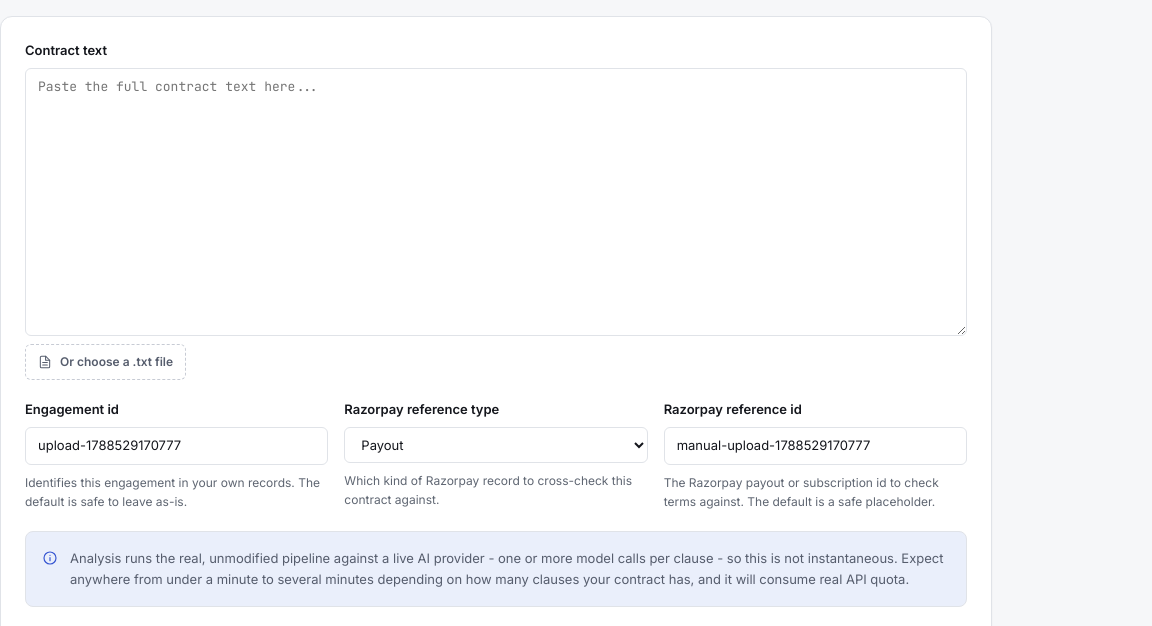
Test: UploadPage › shows the error plainly and links to the partial result when analysis fails partway through
This screenshot has width=1152, height=626.
Type "1. PAYMENT. Pays monthly." into the text box labelled "Contract text" at (496, 202), box [25,68,967,336]
(page scrolled)
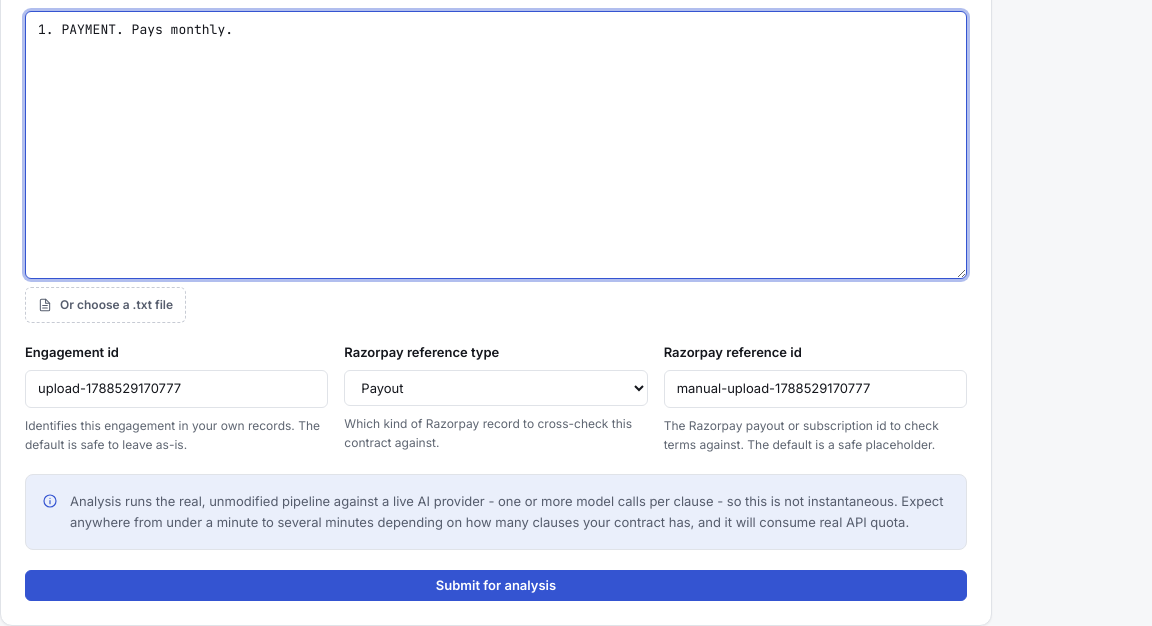
Click the button "Submit for analysis" at (496, 585), box [25,570,967,601]
(page scrolled)
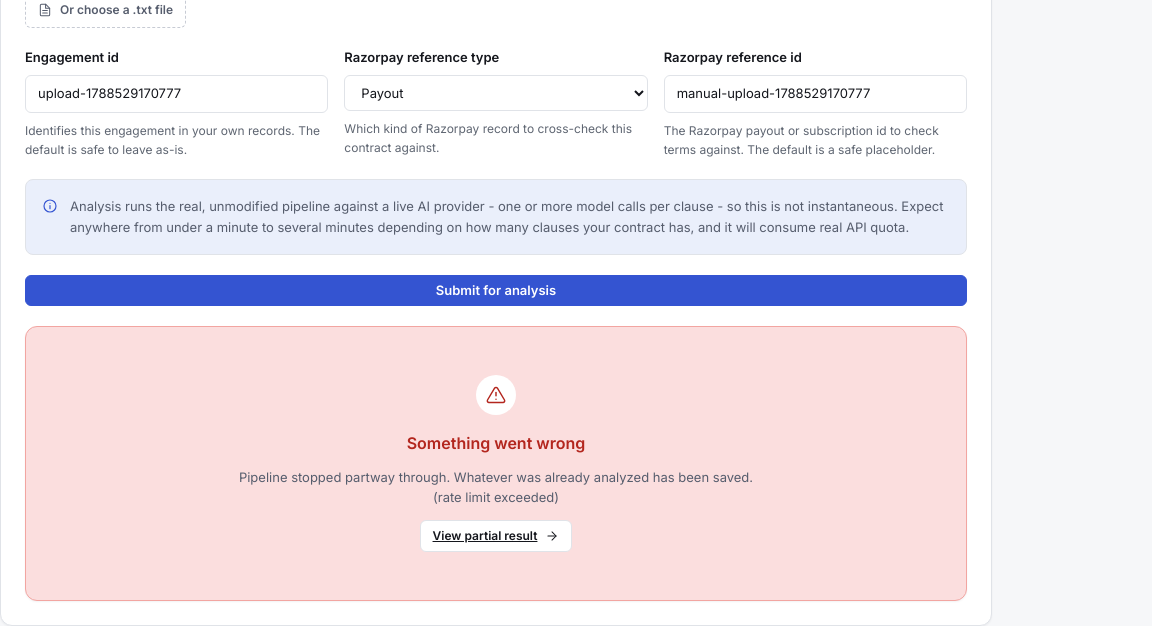
Check: the message with test id "error-state" is shown, box [25,326,967,601]
Check: the text "Pipeline stopped partway through" is shown, box [239,469,753,505]
